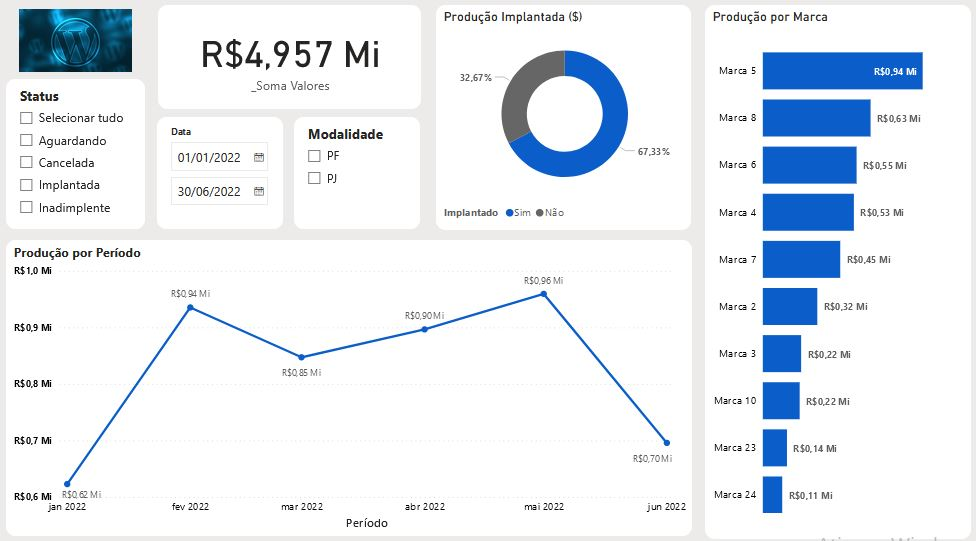

The dashboard page shown, as its layout file describes it:
{"tool":"powerbi","page":{"name":"Produção","canvas":[1280,720],"ordinal":0},"visuals":[{"type":"slicer","fields":{"Values":["Calendário.Data"]},"box":[208.2,157.3,163.6,145.5],"z":0},{"type":"lineChart","title":"Produção por Período","fields":{"Y":["Produção._Soma Valores"],"Category":["Calendário.Início do Mês"]},"box":[11.4,316.2,889.9,384.4],"z":2000},{"type":"clusteredBarChart","title":"Produção por Marca","fields":{"Category":["Produção.Marca"],"Y":["Produção._Soma Valores"]},"box":[918.3,11.4,344.6,693],"z":3000},{"type":"slicer","fields":{"Values":["Produção.Status"]},"box":[11.4,107.9,179.9,195],"z":4000},{"type":"card","fields":{"Values":["Produção._Soma Valores"]},"box":[208.3,11.4,340.8,134.4],"z":5000},{"type":"donutChart","title":"Produção Implantada ($)","fields":{"Y":["Produção._Soma Valores"],"Category":["Produção.Impantada"]},"box":[569.9,11.4,331.4,291.6],"z":6000},{"type":"slicer","fields":{"Values":["Produção.Modalidade"]},"box":[385.5,157.3,163.6,145.5],"z":7000},{"type":"image","box":[11.5,11.5,180,92.2],"z":8000}]}

Visuals, with their boxes in screenshot pixels (x1, y1, x2, y2), scaled from the page's 1280x720 canvas onto the 976x541 screenshot:
slicer - Calendário.Data: 159,118,283,228
"Produção por Período" lineChart: 9,238,687,526
"Produção por Marca" clusteredBarChart: 700,9,963,529
slicer - Produção.Status: 9,81,146,228
card - Produção._Soma Valores: 159,9,419,110
"Produção Implantada ($)" donutChart: 435,9,687,228
slicer - Produção.Modalidade: 294,118,419,228
image: 9,9,146,78
